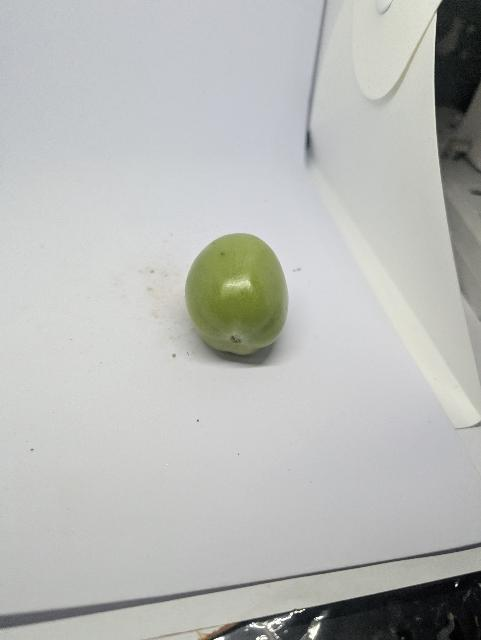green: (154, 214, 307, 371)
